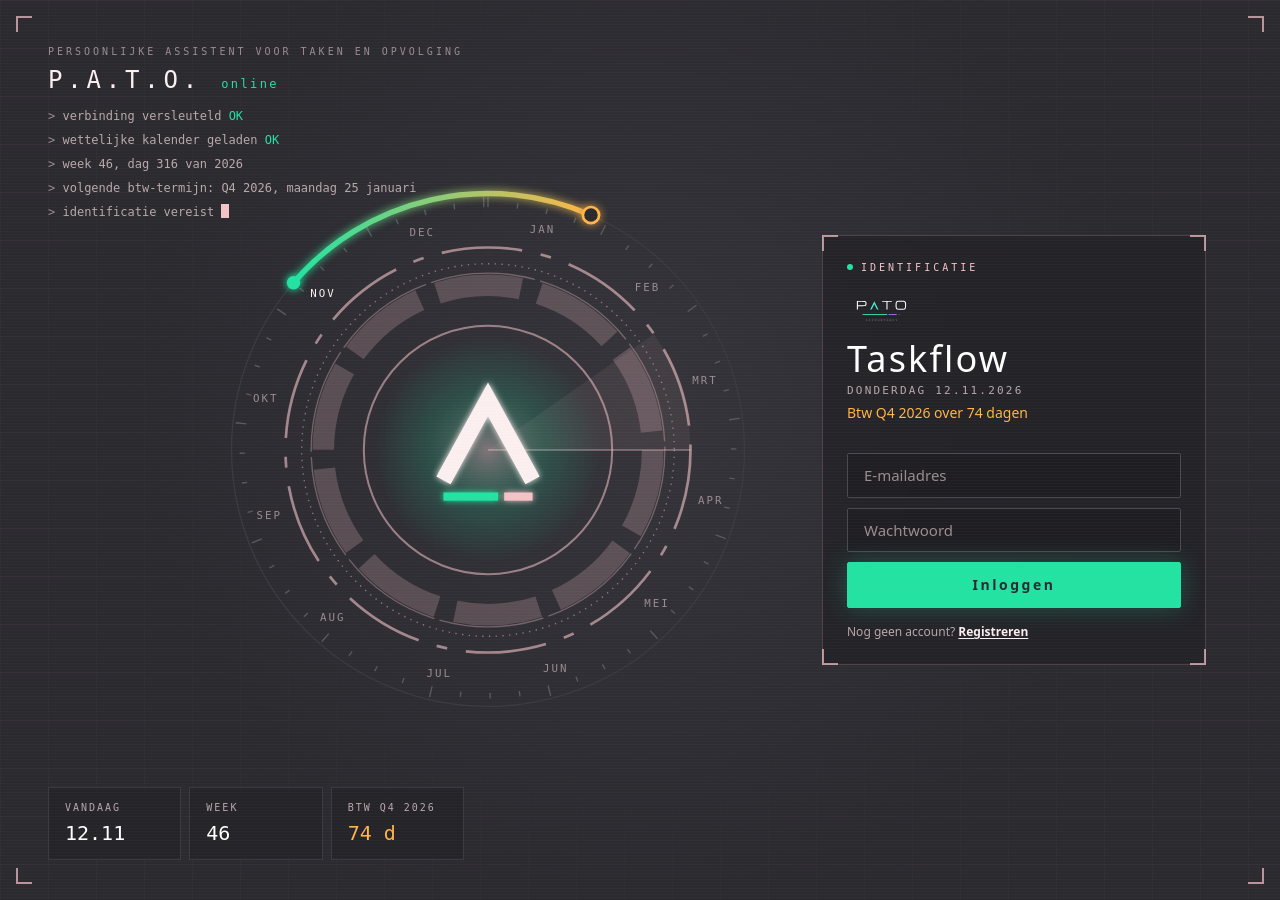
AuthPage: sign in (default mode) › shows the returned error message when sign-in fails
Type "user@example.com" into the field labelled "E-mailadres" at (1014, 476), box [847,453,1181,498]
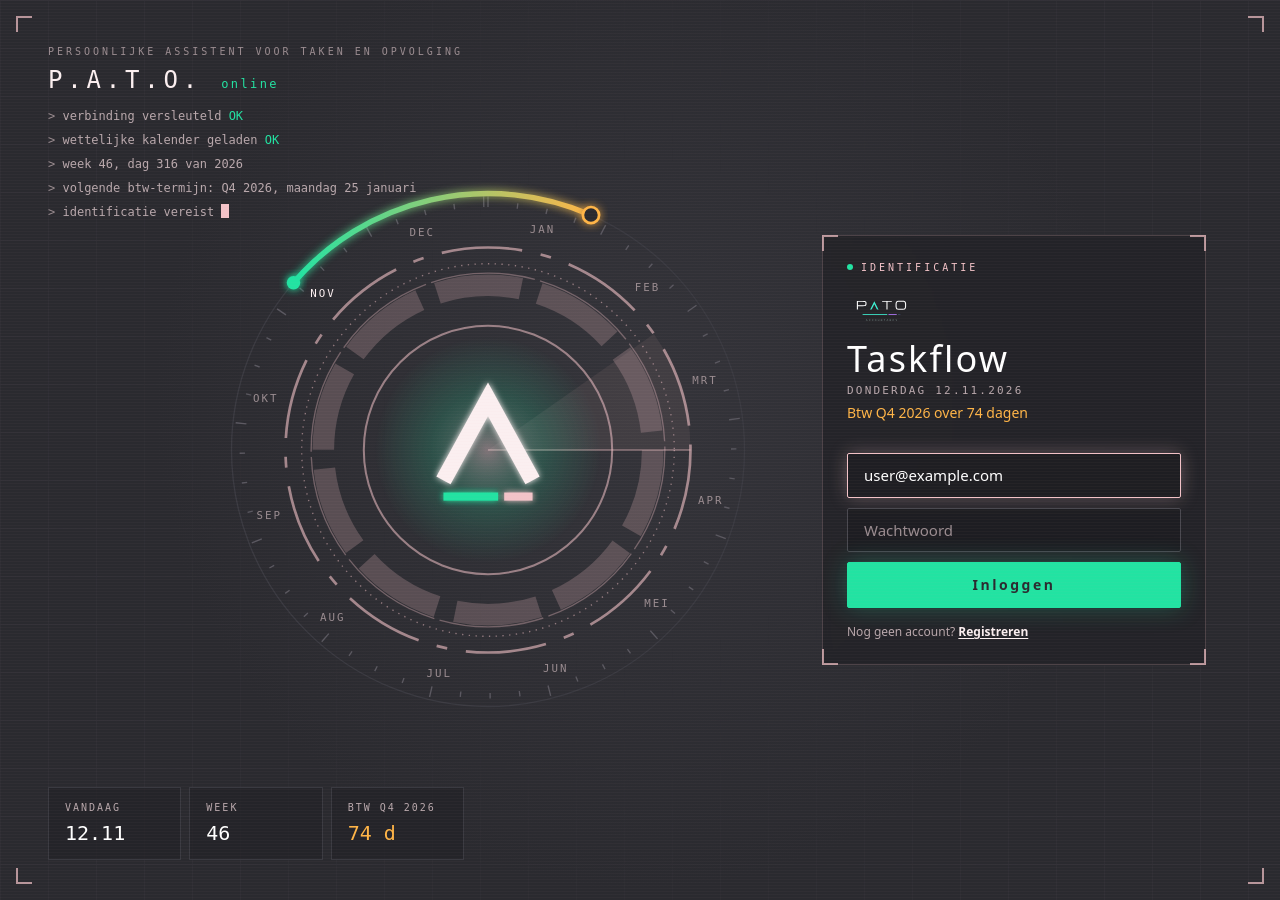
Type "wrongpass" into the password field labelled "Wachtwoord" at (1014, 530), box [847,508,1181,552]
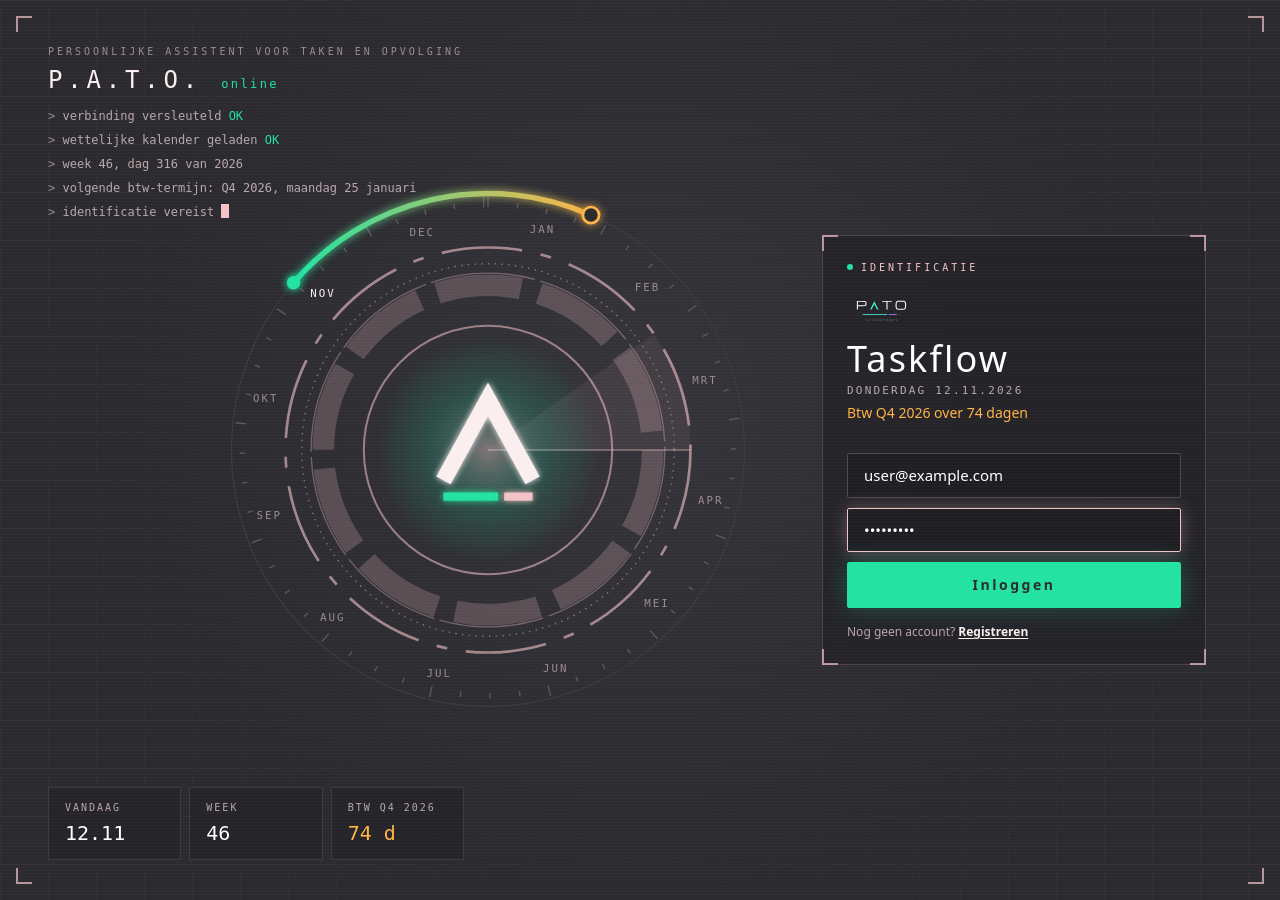
Click the button "Inloggen" at (1014, 585), box [847,562,1181,608]
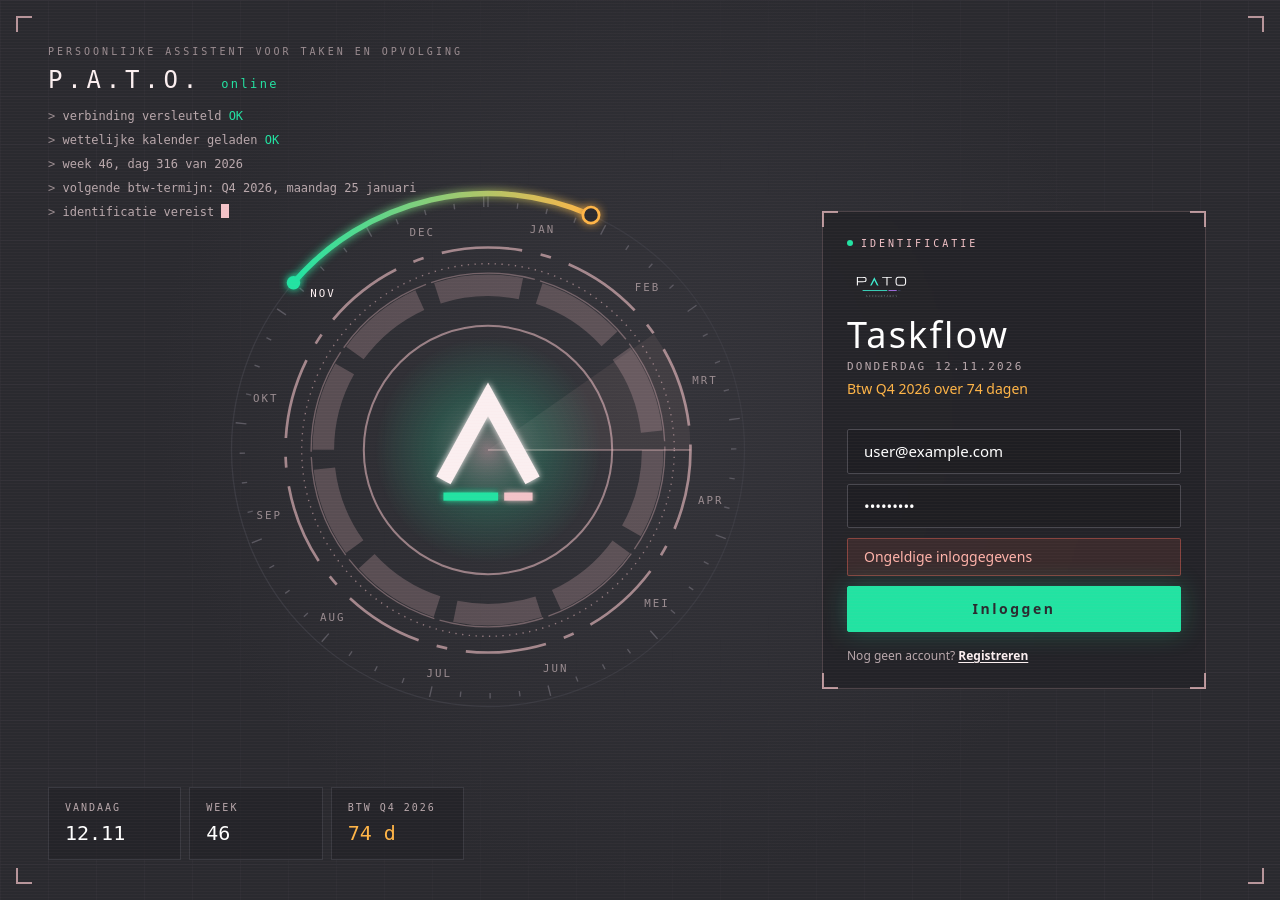
Expected: the message reads "Ongeldige inloggegevens", [864,547,1032,566]
